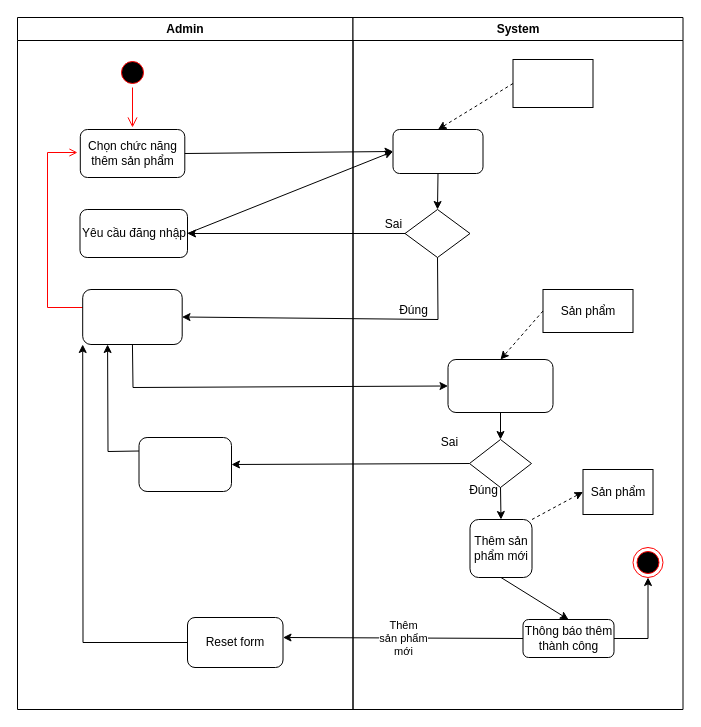
This 701x727 diagram has some shape labels left out. The centre of each missing label's shape, as x and y in pixels:
"Kiểm tra thông tin sản phẩm" goes at [500,385].
"Kiểm tra đăng nhập" goes at [437,151].
"Nhập thông tin sản phẩm mới" goes at [132,316].
"Thông báo lỗi và yêu cầu chỉnh sửa thông tin" goes at [185,464].
"Tài khoản" goes at [552,83].
